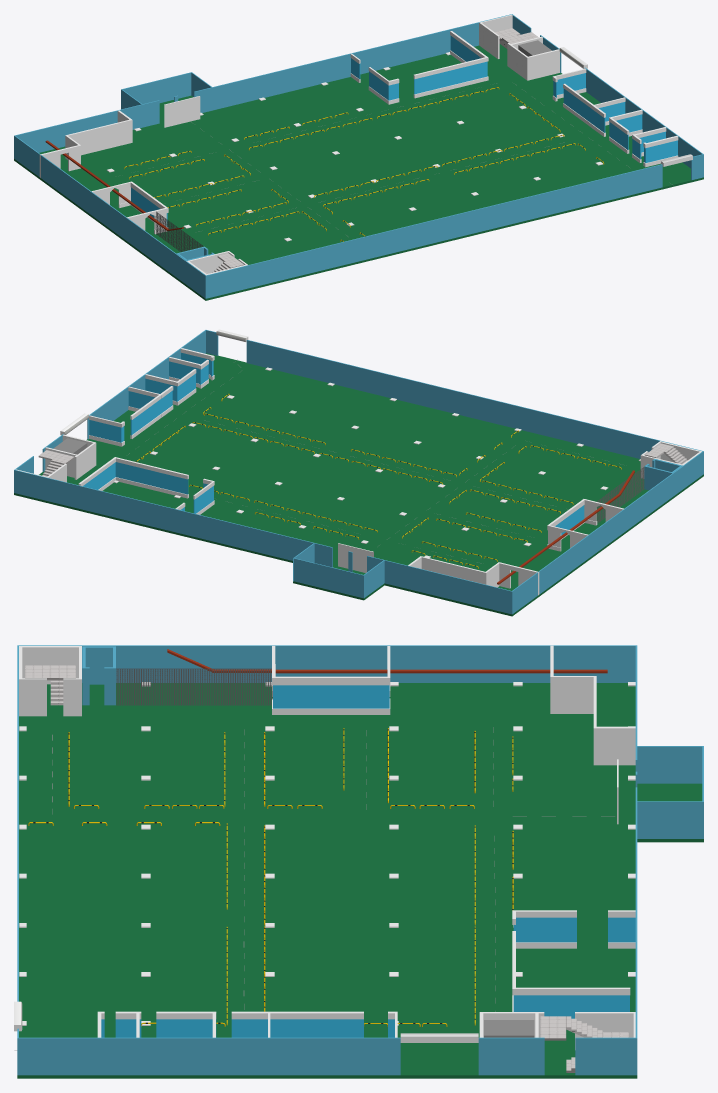
3 renders of one model, top to bottom at view 1: azimuth 30°, elevation 25°; view 2: azimuth 150°, elevation 25°; view 3: azimuth 270°, elevation 25°, orthographic. The views are drawn at different scales.
Visible parts, largest first — view 1: dimian001, qiang001, Object019, Object020, Object018, 对象001, Object023, Object026, Object025, Plane001, Object021, Box088; view 2: dimian001, qiang001, Object019, Object020, Object023, 对象001, Object026, Object018, Plane001, Object025, Object022, Object021 (+2 smaller); view 3: dimian001, qiang001, Object020, Object019, Plane001, Object023, Object026, 对象001, Object021, Box088, Object018, Object022 (+4 smaller).
Part boxes in pixels (box(x1,y1,x2,y2)): dimian001: box(14, 44, 703, 300); qiang001: box(14, 14, 703, 298); Object019: box(552, 68, 678, 167); Object020: box(350, 31, 488, 104); Object018: box(479, 14, 559, 80); 对象001: box(39, 110, 132, 177); Object023: box(121, 72, 211, 109); Object026: box(92, 181, 168, 234); Object025: box(164, 96, 200, 127); Plane001: box(155, 211, 203, 251); Object021: box(187, 251, 247, 275); Box088: box(45, 140, 183, 231); dimian001: box(14, 353, 703, 616); qiang001: box(14, 330, 703, 614); Object019: box(89, 348, 214, 446); Object020: box(78, 457, 214, 514); Object023: box(293, 543, 384, 598); 对象001: box(408, 556, 539, 595); Object026: box(547, 499, 623, 551); Object018: box(15, 434, 96, 482); Plane001: box(596, 467, 644, 523); Object025: box(338, 543, 373, 572); Object022: box(644, 459, 682, 490); Object021: box(640, 441, 701, 478); dimian001: box(17, 683, 703, 1078); qiang001: box(17, 645, 637, 1075); Object020: box(512, 910, 635, 1018); Object019: box(97, 1011, 397, 1037); Plane001: box(116, 668, 272, 705); Object023: box(637, 746, 703, 838); Object026: box(272, 646, 390, 714); 对象001: box(550, 645, 635, 765); Object021: box(19, 646, 81, 716); Box088: box(167, 649, 607, 673); Object018: box(479, 1012, 635, 1049); Object022: box(82, 646, 115, 705).
Size of the model in its own units: 2375 by 153 by 1753.
Materials: 13 (11 with a texture image).
